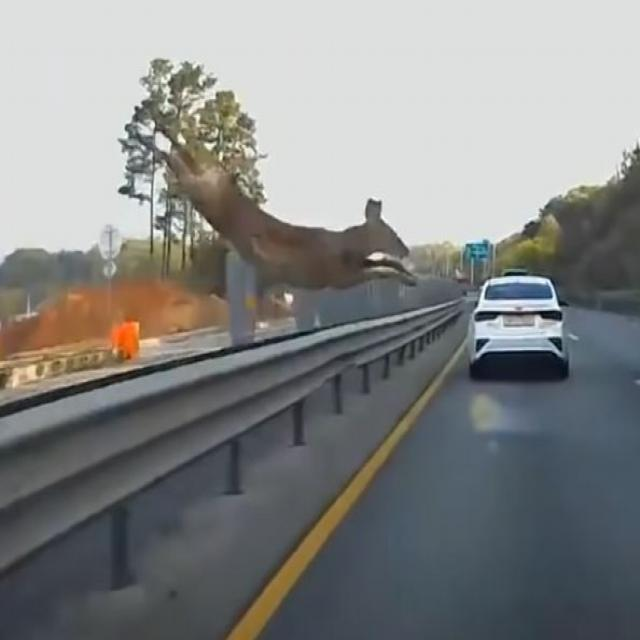elk: (98, 82, 446, 398)
